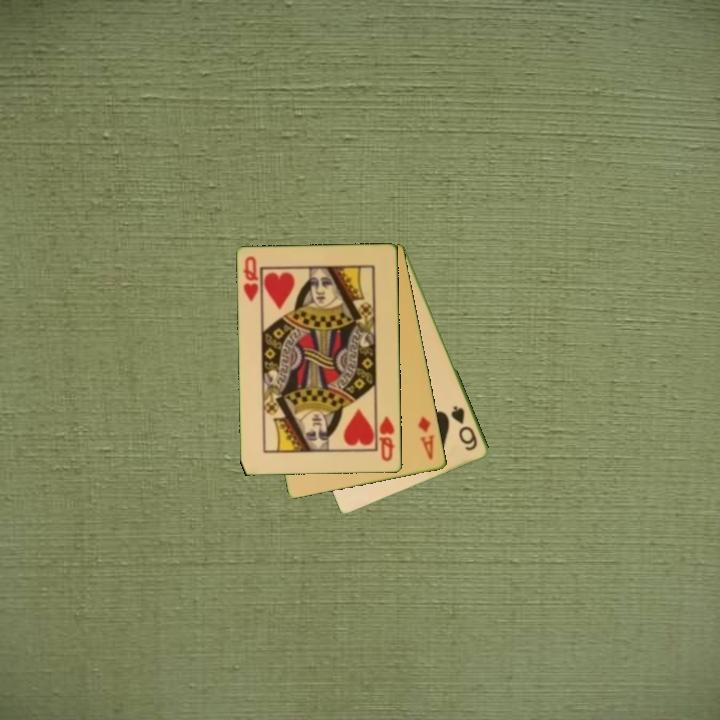6s: (448, 402, 481, 454)
Ad: (415, 413, 437, 463)
Qh: (240, 253, 262, 305), (376, 413, 397, 465)
